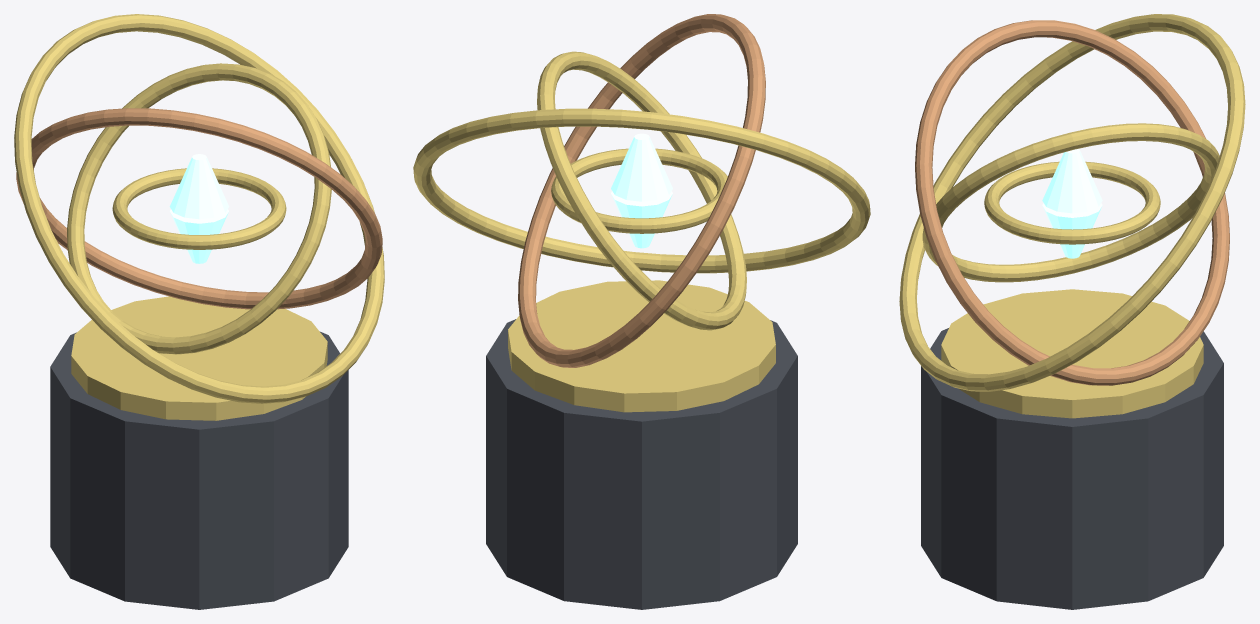
File: chronomantic_astrolabe.glb
3 views of the same model, side by side, from view 1: azimuth 30°, elevation 25°; view 2: azimuth 150°, elevation 25°; view 3: azimuth 270°, elevation 25° (orthographic). The views are drawn at different scales.
Parts seen in each view (by area): view 1: Cylinder, Cylinder.001, AstrolabeRing_0, AstrolabeRing_1, AstrolabeRing_2, OuroborosGear, Cone, Cone.001; view 2: Cylinder, Cylinder.001, AstrolabeRing_0, AstrolabeRing_1, AstrolabeRing_2, OuroborosGear, Cone, Cone.001; view 3: Cylinder, Cylinder.001, AstrolabeRing_0, AstrolabeRing_1, AstrolabeRing_2, OuroborosGear, Cone, Cone.001.
Part boxes in pixels (x1=…): Cylinder: x1=50, y1=331, x2=348, y2=609; Cylinder.001: x1=71, y1=296, x2=327, y2=420; AstrolabeRing_0: x1=14, y1=14, x2=384, y2=403; AstrolabeRing_1: x1=16, y1=108, x2=382, y2=309; AstrolabeRing_2: x1=67, y1=63, x2=331, y2=354; OuroborosGear: x1=112, y1=168, x2=286, y2=249; Cone: x1=169, y1=154, x2=229, y2=219; Cone.001: x1=169, y1=209, x2=229, y2=263; Cylinder: x1=486, y1=319, x2=797, y2=609; Cylinder.001: x1=508, y1=280, x2=775, y2=412; AstrolabeRing_0: x1=413, y1=108, x2=870, y2=273; AstrolabeRing_1: x1=518, y1=14, x2=765, y2=367; AstrolabeRing_2: x1=537, y1=51, x2=746, y2=330; OuroborosGear: x1=551, y1=148, x2=727, y2=233; Cone: x1=611, y1=133, x2=672, y2=201; Cone.001: x1=611, y1=191, x2=672, y2=248; Cylinder: x1=921, y1=328, x2=1223, y2=609; Cylinder.001: x1=941, y1=289, x2=1203, y2=418; AstrolabeRing_0: x1=899, y1=14, x2=1245, y2=391; AstrolabeRing_1: x1=915, y1=20, x2=1229, y2=385; AstrolabeRing_2: x1=922, y1=123, x2=1219, y2=282; OuroborosGear: x1=984, y1=161, x2=1160, y2=244; Cone: x1=1042, y1=148, x2=1102, y2=213; Cone.001: x1=1042, y1=203, x2=1102, y2=258.
Bounding box in the file's own units: 1.71 × 2.12 × 1.37.
